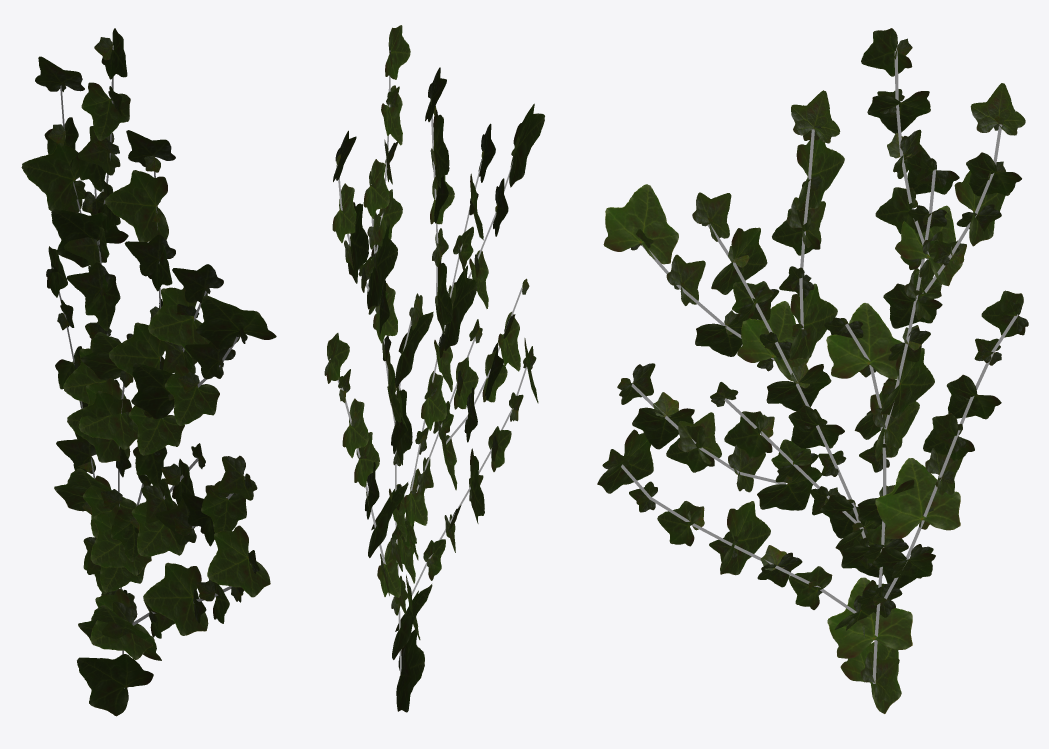
Rendered from SM_Ivy_BezierCurve_009.fbx.
3 renders of one model, left to right at view 1: azimuth 30°, elevation 25°; view 2: azimuth 150°, elevation 25°; view 3: azimuth 270°, elevation 25°, orthographic.
Visible parts, largest first — view 1: SM_Ivy_BezierCurve_009_LOD0; view 2: SM_Ivy_BezierCurve_009_LOD0; view 3: SM_Ivy_BezierCurve_009_LOD0.
Boxes of the visible parts, x1=… form: SM_Ivy_BezierCurve_009_LOD0: x1=21, y1=28, x2=276, y2=716; SM_Ivy_BezierCurve_009_LOD0: x1=324, y1=25, x2=544, y2=712; SM_Ivy_BezierCurve_009_LOD0: x1=597, y1=28, x2=1028, y2=713.
Bounding box in the file's own units: 10.74 × 56.07 × 98.58.
